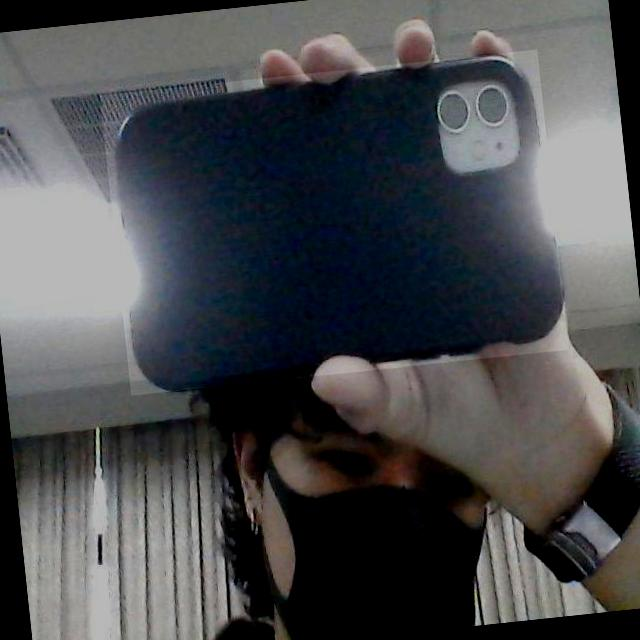lens_back: (432, 84, 474, 138), (470, 80, 512, 128)
phone: (100, 49, 570, 395)
